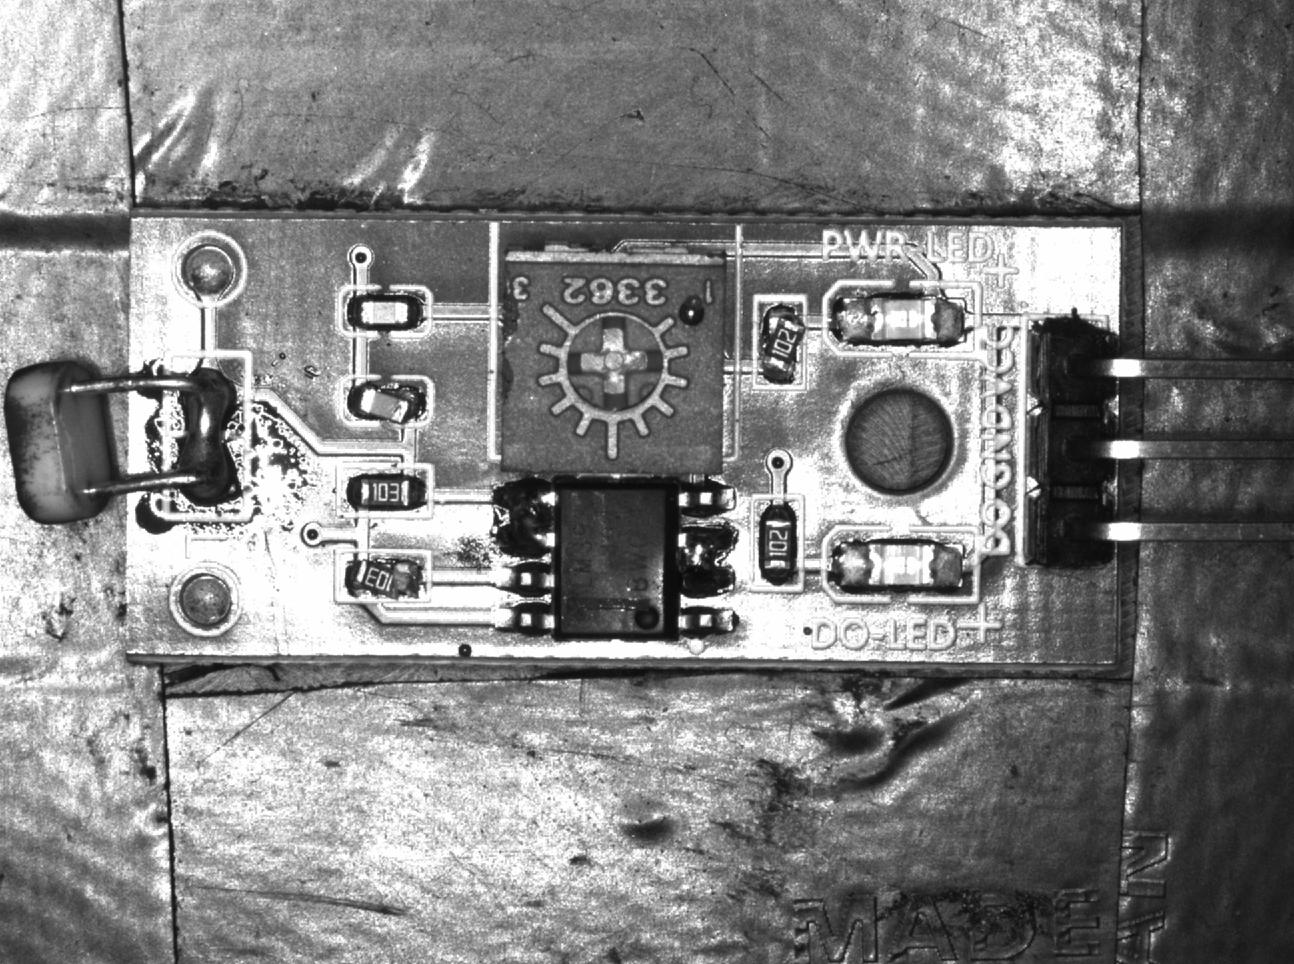bridge: (164, 349, 250, 520), (489, 476, 551, 559), (676, 520, 738, 596)
lifted: (334, 549, 431, 601), (340, 376, 432, 427), (758, 295, 801, 390)
ok: (338, 286, 433, 340), (336, 462, 426, 519), (752, 492, 801, 593)
